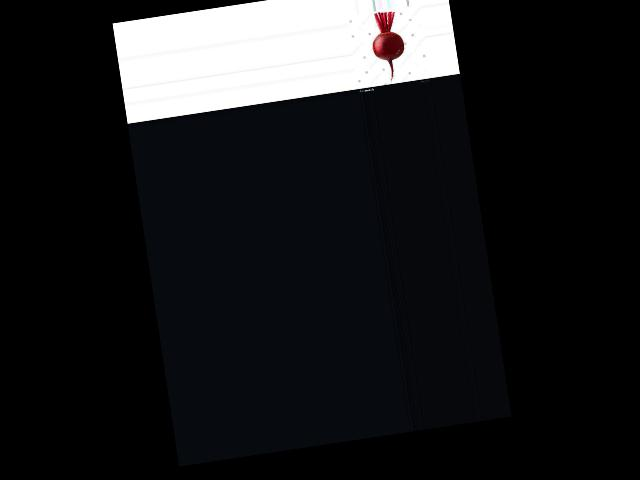beet: (368, 9, 409, 84)
